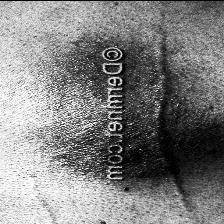Non-Cancerous Skin Condition: (123, 38, 224, 220), (0, 21, 90, 189)
